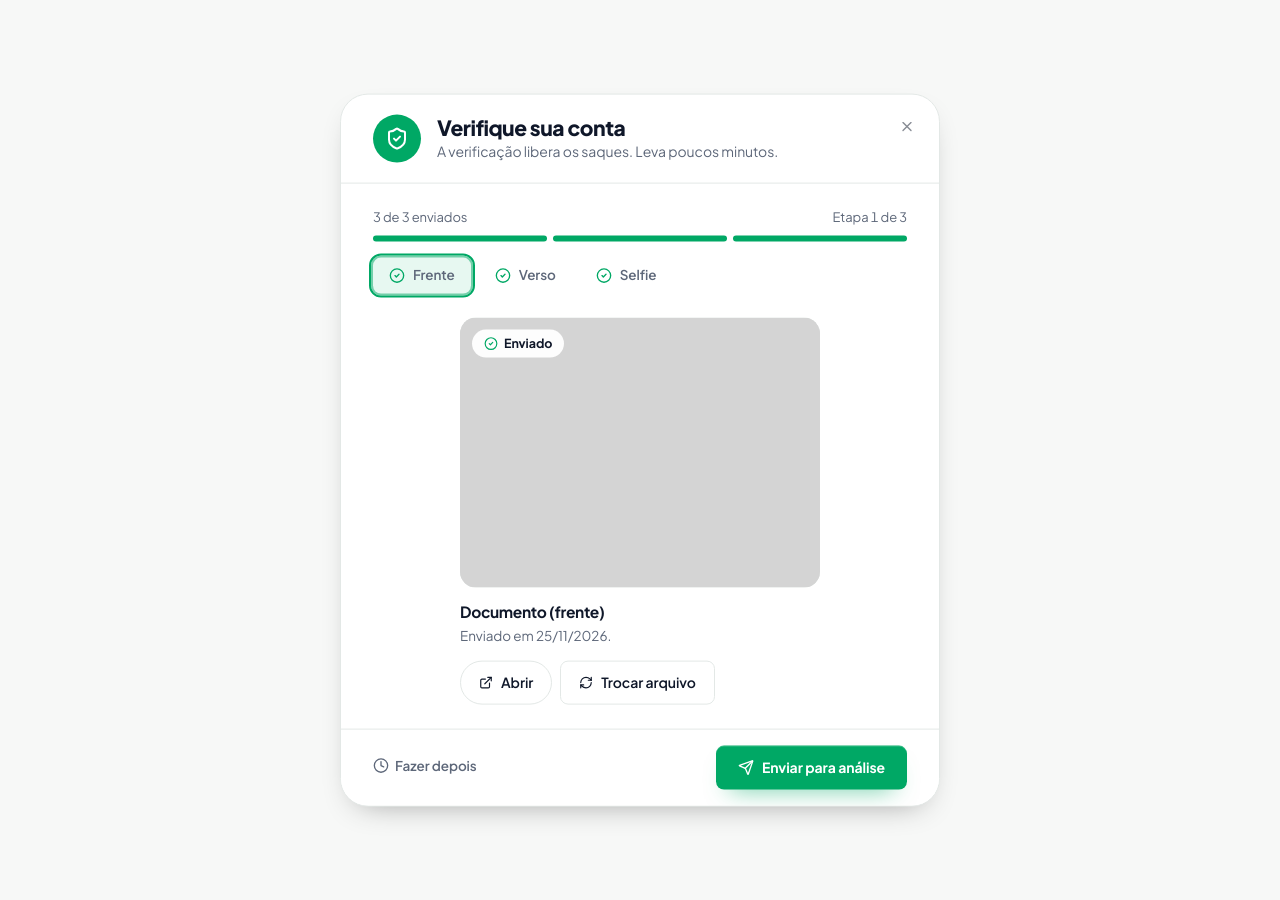
Test: popup de verificação › com tudo enviado, envia para análise e mostra o fim
Click the button "Enviar para análise" at (812,767), box [716,745,907,789]
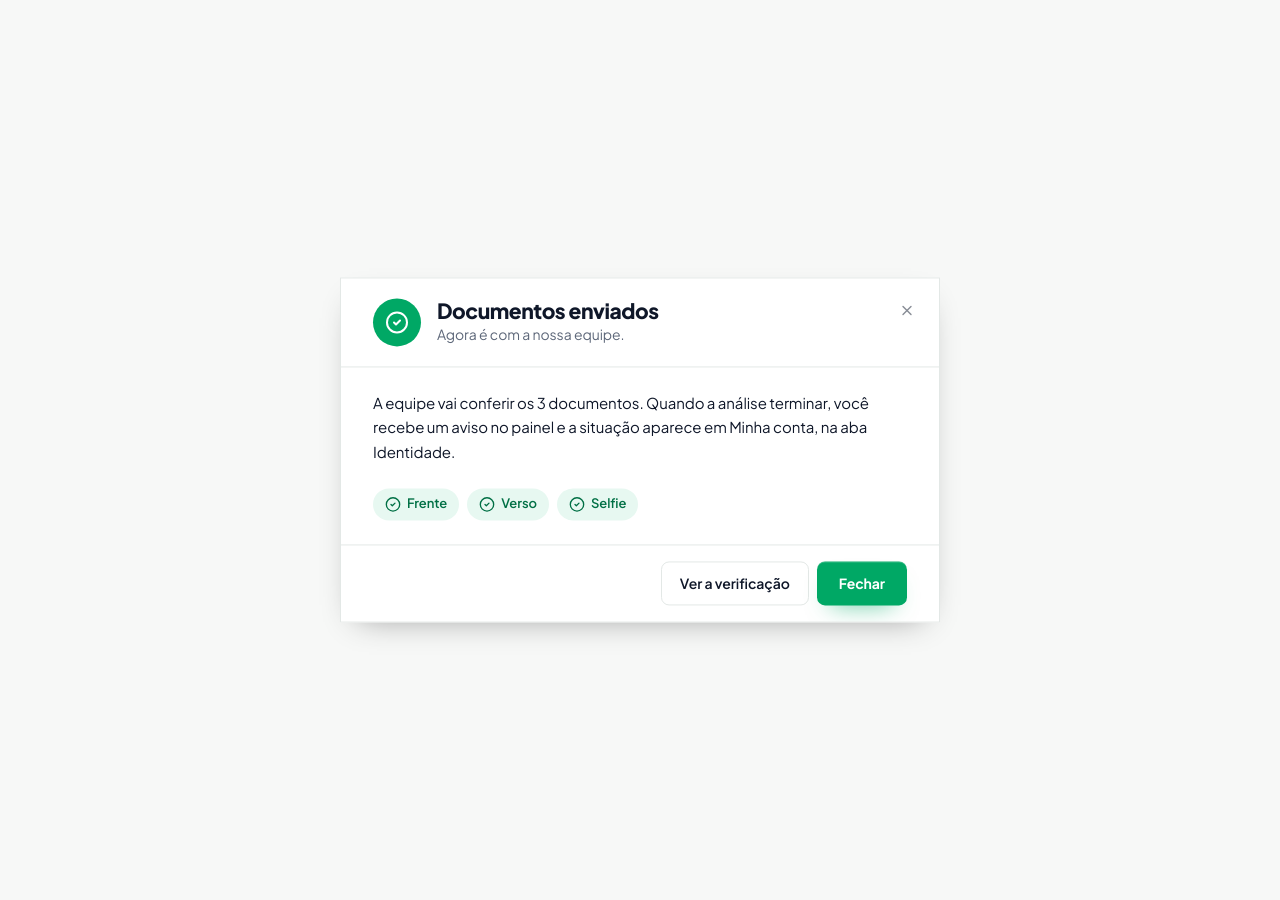
Check: the heading "Documentos enviados" is shown, box [437,298,659,325]
Check: the text "A equipe vai conferir os 3 documentos" is shown, box [373,391,907,464]
